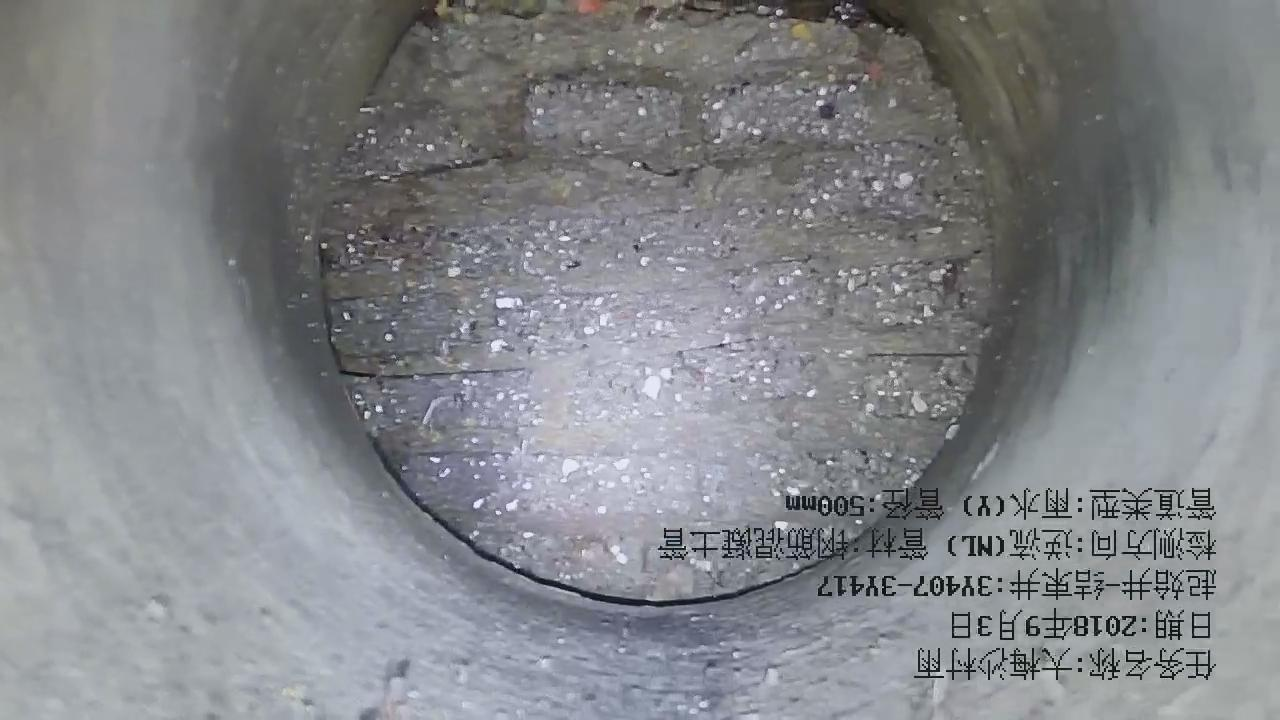CQBG: (317, 1, 999, 602)
